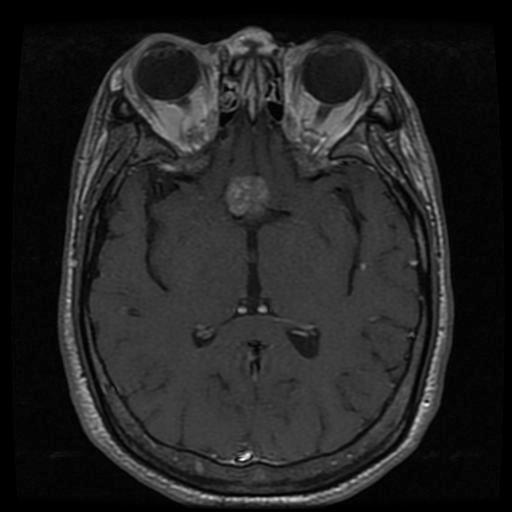Tumour-Pituitary: (224, 176, 275, 225)
